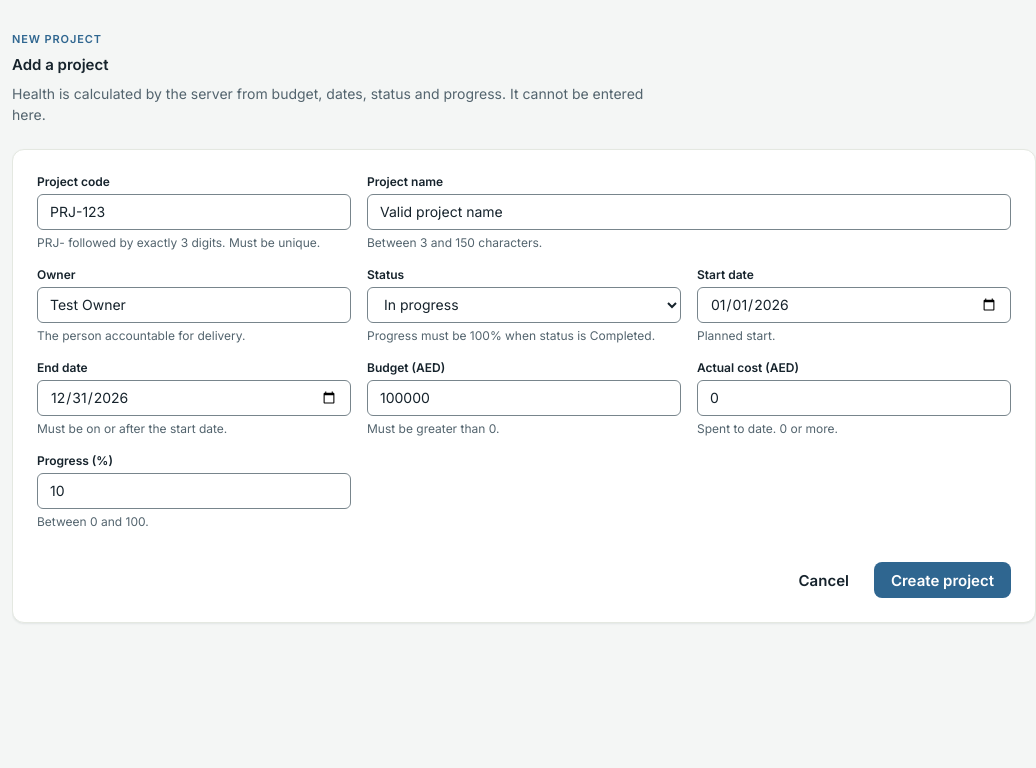
Test case: ProjectFormComponent › shows a 409 on the code field, because the code is the only unique rule
Click the submit button.
click(942, 580)  # box [874,562,1011,598]
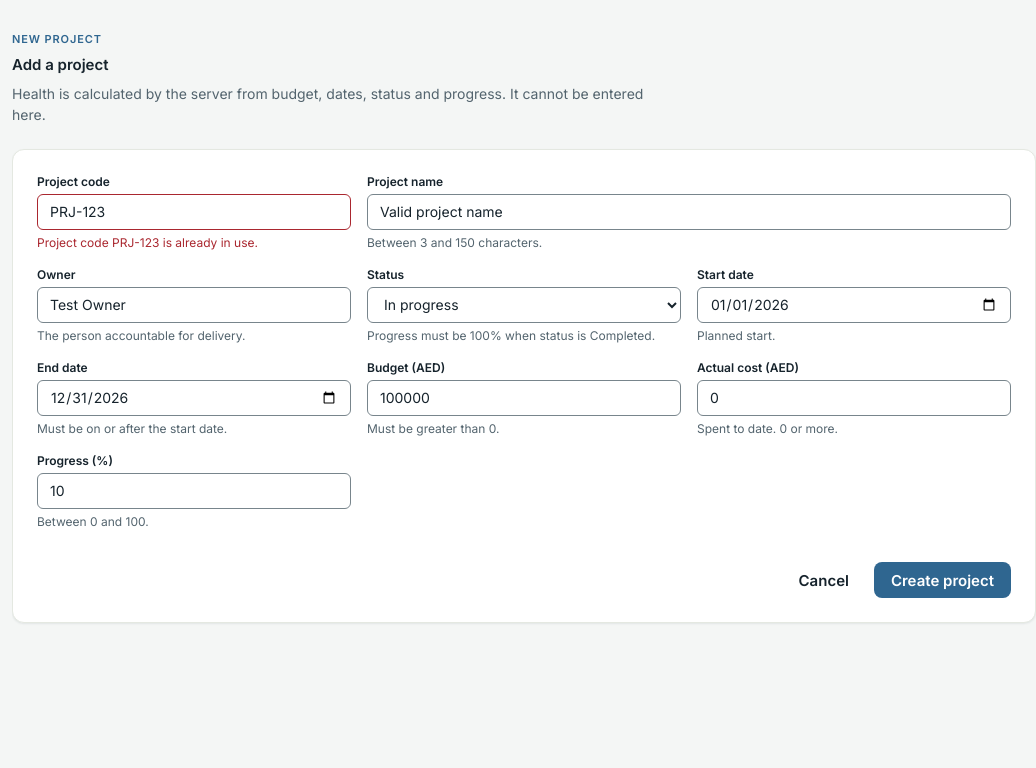
Check: the text with id "code-message" reads "Project code PRJ-123 is already in use.", box [37,235,258,250]
